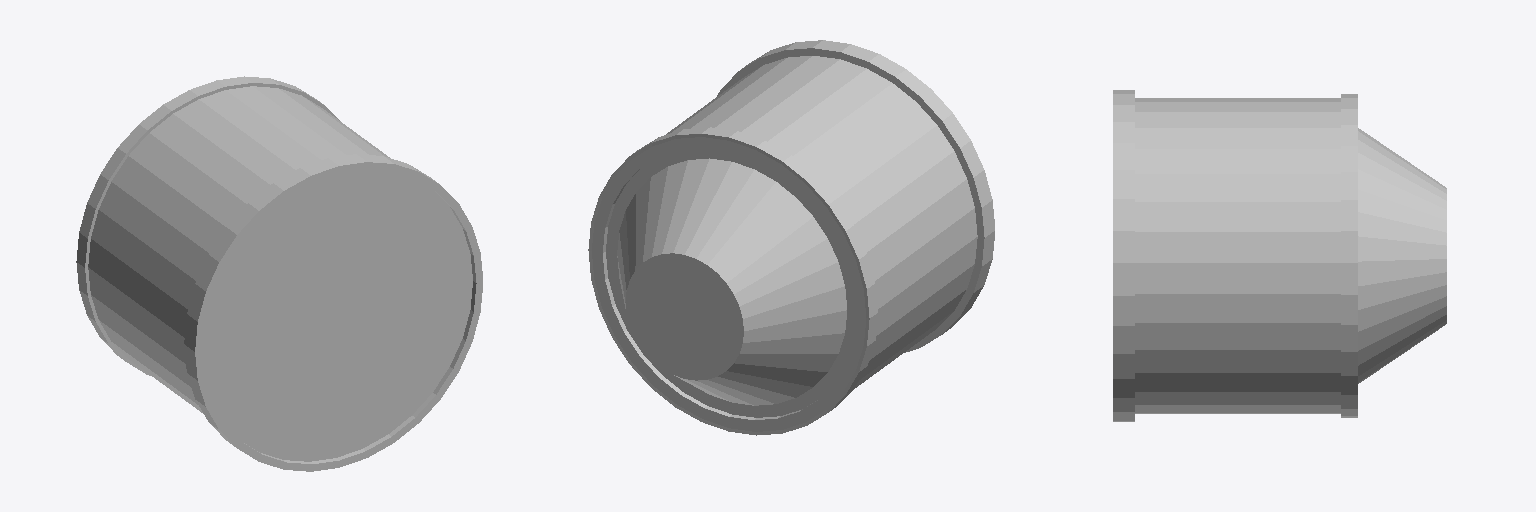
File: MWantena.obj
The picture shows the model from 3 angles: view 1: azimuth 30°, elevation 25°; view 2: azimuth 150°, elevation 25°; view 3: azimuth 270°, elevation 25°; orthographic projection.
Visible parts, largest first — view 1: Cylinder; view 2: Cylinder; view 3: Cylinder.
Part boxes in pixels (x1,y1,x2,y2): Cylinder: (76,76,482,471); Cylinder: (588,40,994,435); Cylinder: (1113,90,1446,421).
Bounding box in the file's own units: 1 × 1 × 1.